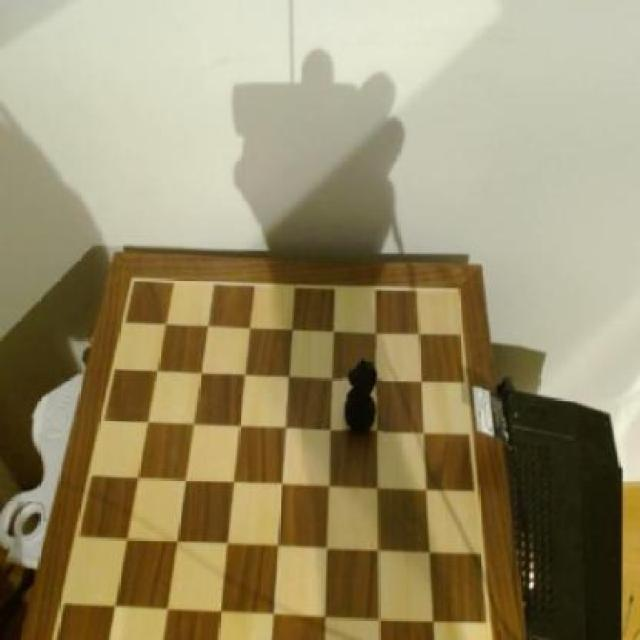black-king: (343, 351, 384, 444)
